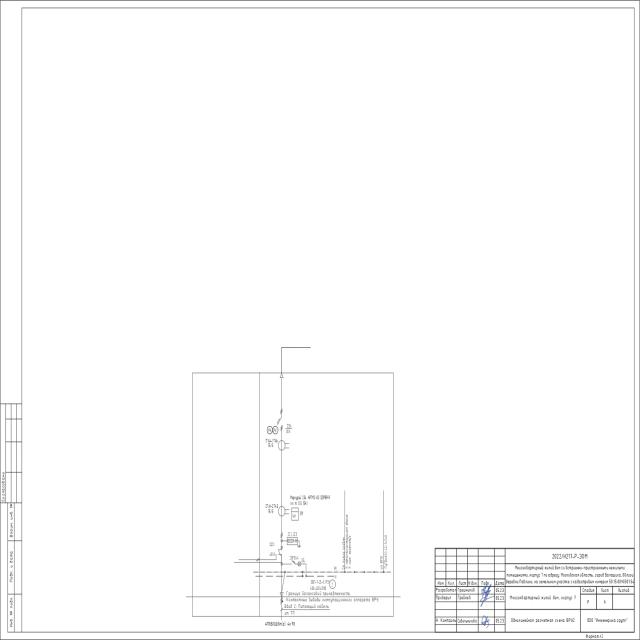-: (289, 494, 331, 506), (310, 579, 330, 591), (284, 423, 294, 433), (267, 508, 274, 514), (267, 443, 274, 449), (270, 551, 276, 556), (294, 555, 299, 560)
HL: (297, 561, 302, 567)
PA: (267, 425, 273, 435)
PV: (272, 425, 278, 435)
QF: (277, 415, 284, 433), (290, 560, 296, 565)
TT: (277, 439, 290, 452), (278, 506, 290, 516)
WH: (291, 507, 299, 521)
switch: (275, 548, 281, 558)
